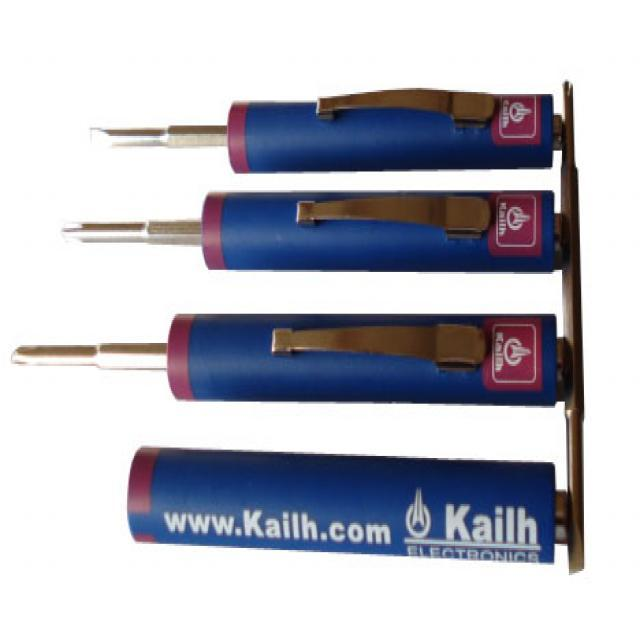screwdriver: (4, 296, 586, 428), (80, 82, 611, 194), (58, 174, 571, 286)
